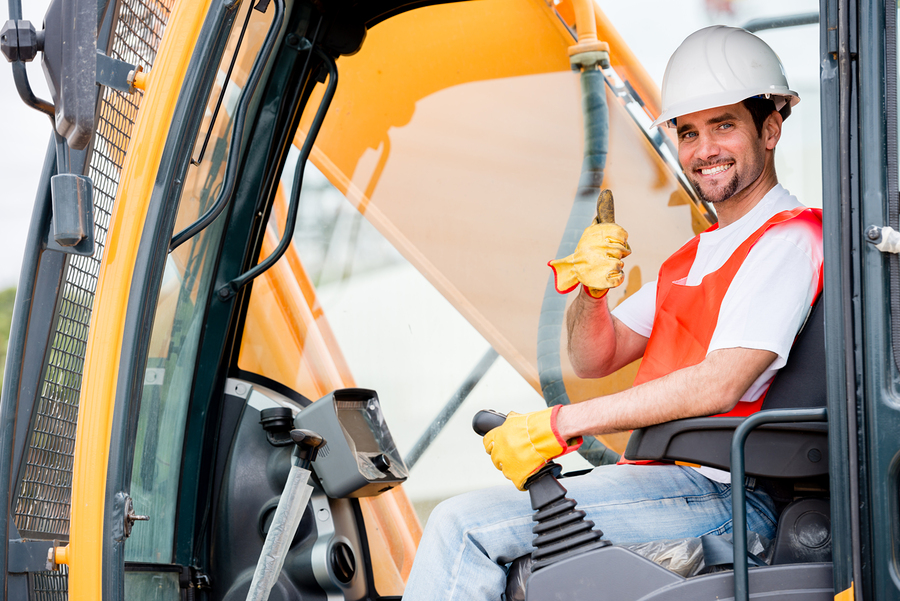crane-operator: (624, 23, 816, 321)
